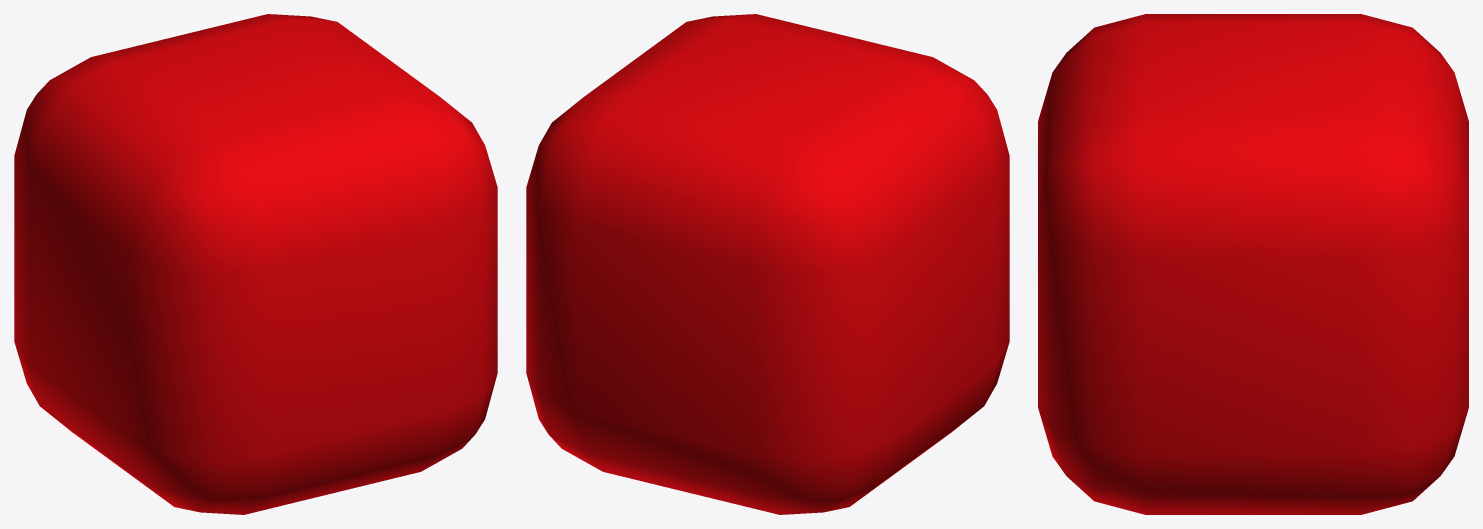
File: UCX_WorldCollision.fbx
3 renders of one model, left to right at view 1: azimuth 30°, elevation 25°; view 2: azimuth 150°, elevation 25°; view 3: azimuth 270°, elevation 25°, orthographic. The views are drawn at different scales.
Parts seen in each view (by area): view 1: UCX_WorldCollision; view 2: UCX_WorldCollision; view 3: UCX_WorldCollision.
Boxes of the visible parts, left/top/right/bottom form: UCX_WorldCollision: left=14, top=14, right=497, bottom=514; UCX_WorldCollision: left=526, top=14, right=1009, bottom=514; UCX_WorldCollision: left=1038, top=14, right=1468, bottom=514.
Size of the model in its own units: 200 by 200 by 200.
